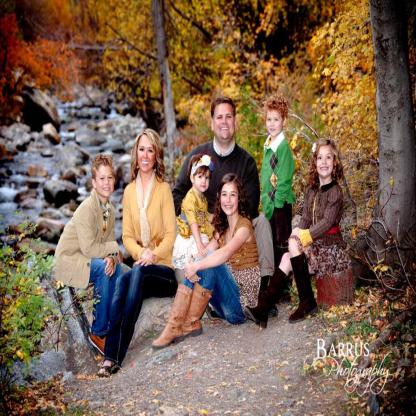face: (215, 108, 235, 138), (138, 140, 156, 172), (96, 168, 115, 197), (222, 187, 239, 215), (319, 149, 334, 177), (266, 111, 283, 135), (196, 171, 210, 192)
